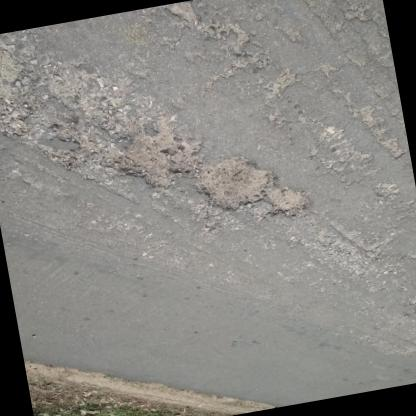pothole: (103, 115, 206, 201), (186, 149, 280, 219), (262, 182, 313, 222)
